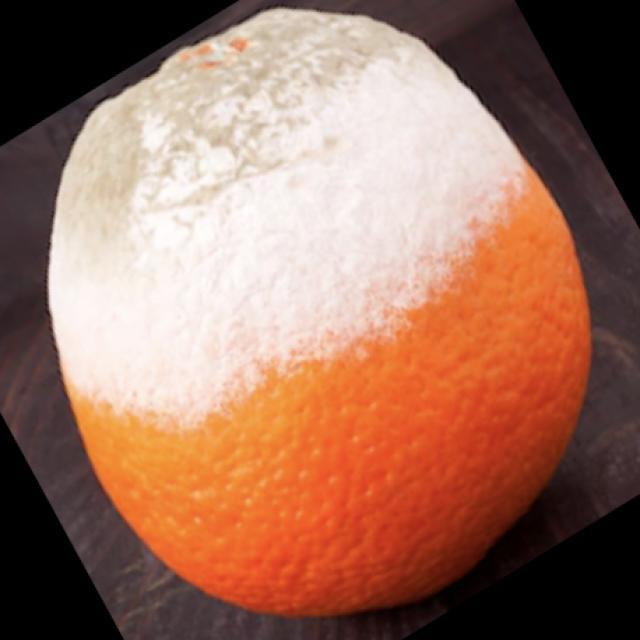sangat-busuk: (49, 9, 590, 615)
